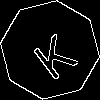K: (25, 25, 80, 82)
